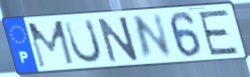6: (168, 10, 203, 59)
E: (197, 8, 241, 57)
M: (26, 19, 77, 70)
N: (96, 15, 141, 65), (131, 12, 174, 63)
U: (63, 18, 104, 66)
